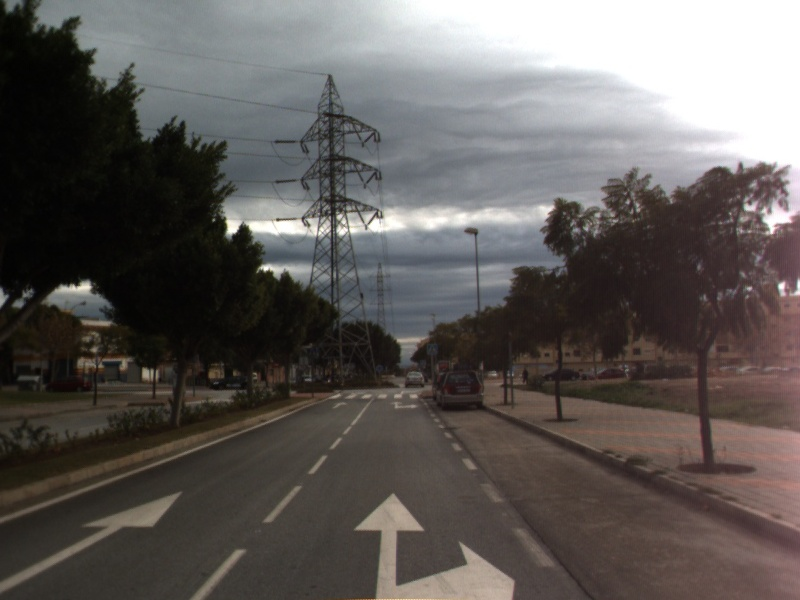STRAIGHT: (1, 488, 187, 593), (330, 399, 350, 411)
STRAIGHT_RIGHT: (348, 489, 518, 600), (388, 399, 421, 411)
